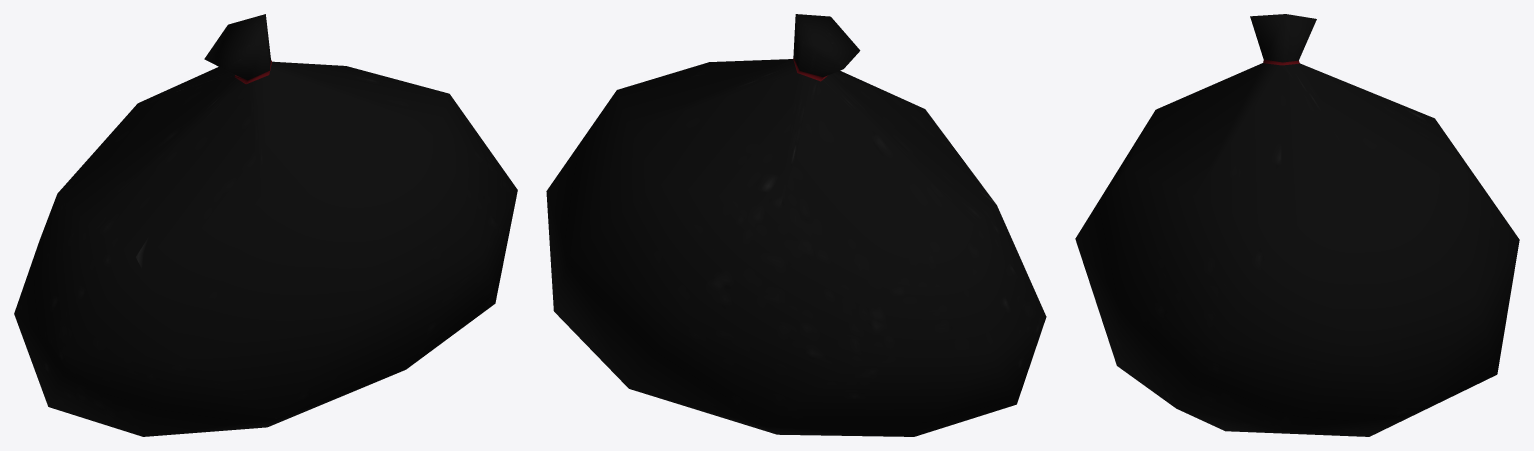
The model's file is trashbag_2.glb.
3 views of the same model, side by side, from view 1: azimuth 30°, elevation 25°; view 2: azimuth 150°, elevation 25°; view 3: azimuth 270°, elevation 25° (orthographic). The views are drawn at different scales.
Parts seen in each view (by area): view 1: TrashBag_2; view 2: TrashBag_2; view 3: TrashBag_2.
Boxes of the visible parts, <box> form: TrashBag_2: <box>14,14,517,436</box>; TrashBag_2: <box>546,14,1046,436</box>; TrashBag_2: <box>1075,14,1519,436</box>.
Size of the model in its own units: 1.35 by 1.08 by 1.13.
Materials: 1 (1 with a texture image).
